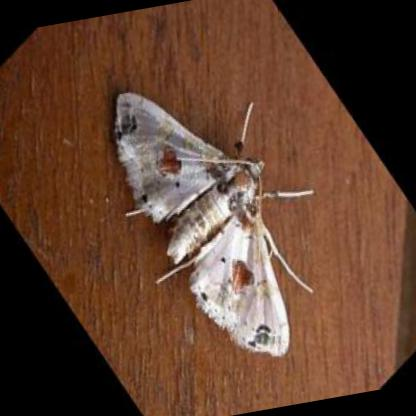leucinodes: (115, 93, 293, 354)
